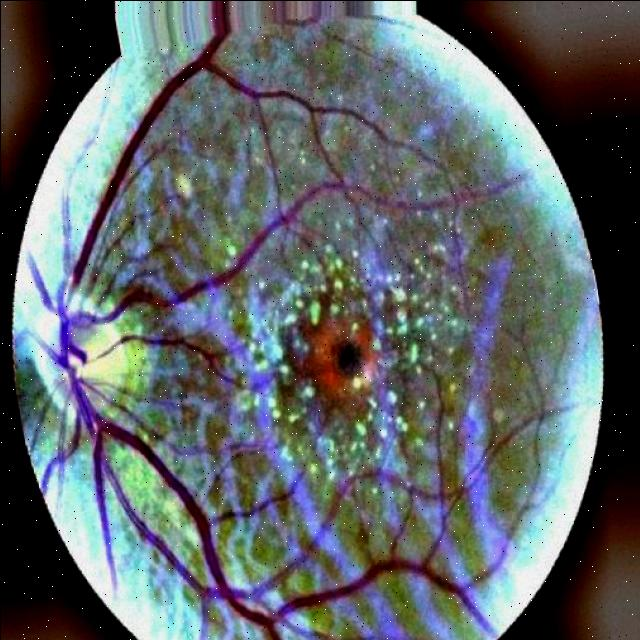Macula: (336, 342, 359, 372)
Nerves: (27, 0, 493, 640), (101, 334, 231, 379)
Optic Disk: (23, 273, 126, 449)
